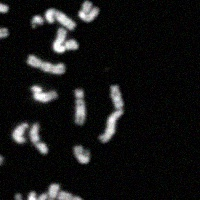chromosome: (98, 85, 123, 143), (27, 55, 65, 74), (45, 8, 75, 29), (53, 27, 78, 52), (30, 122, 47, 153), (79, 0, 99, 21), (31, 86, 57, 102), (75, 88, 86, 124), (58, 190, 93, 200), (12, 123, 28, 143), (73, 145, 90, 163), (46, 184, 59, 200), (28, 190, 47, 200), (0, 17, 7, 40), (32, 15, 44, 28), (0, 0, 8, 13), (14, 193, 22, 200), (0, 140, 2, 165)
